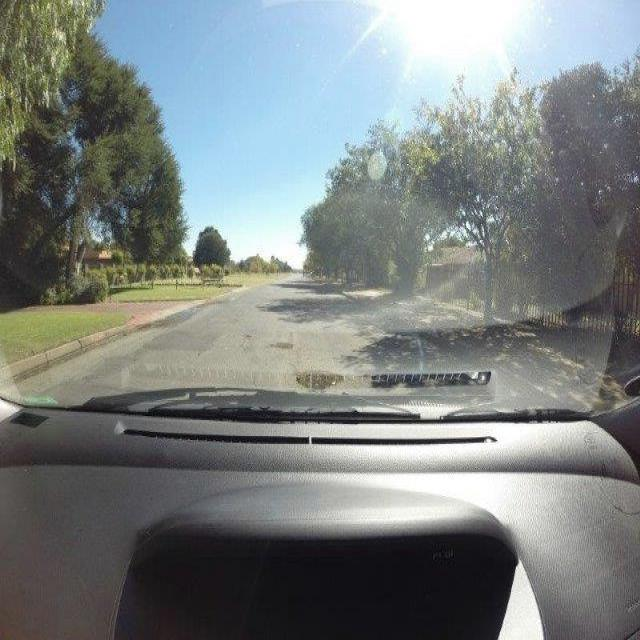lubang: (294, 368, 355, 392), (269, 337, 300, 351)
